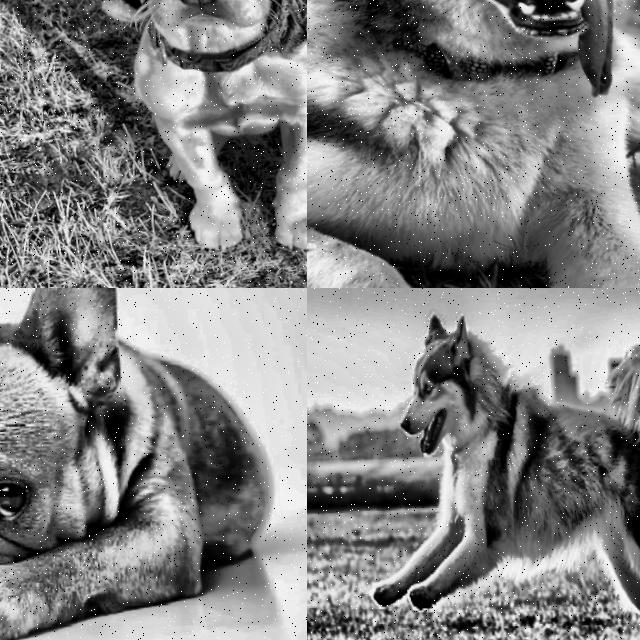beagle: (45, 0, 307, 87)
bulldog: (0, 288, 184, 640)
husky: (307, 0, 640, 138), (365, 288, 535, 507)
